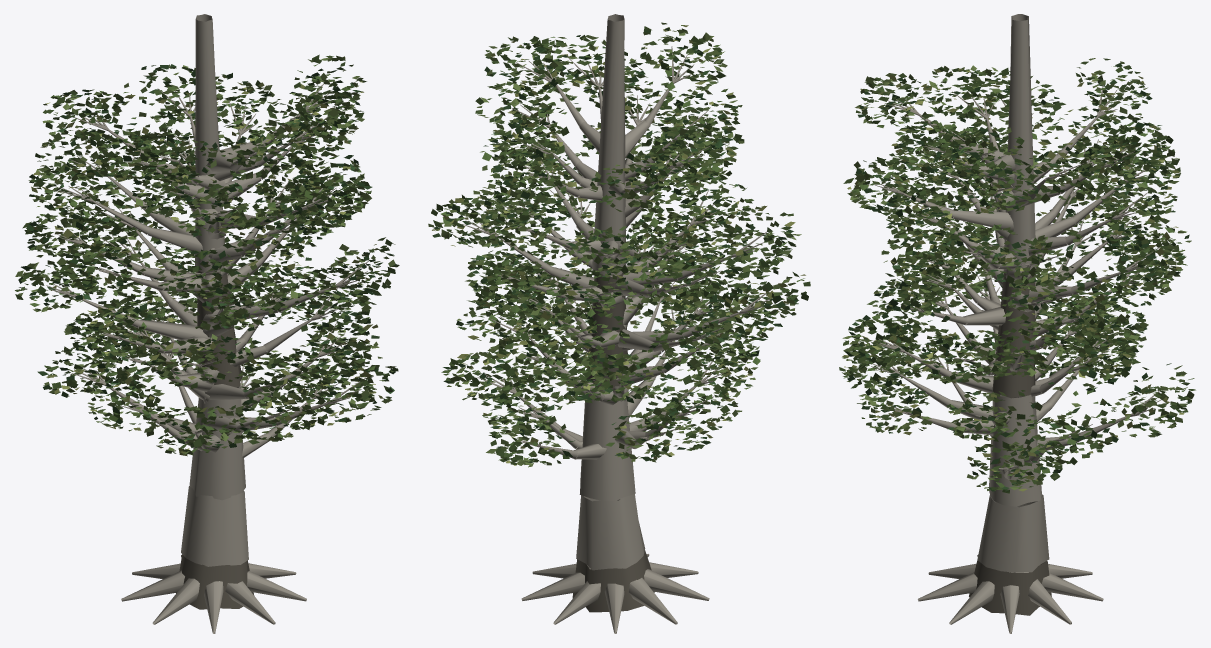
Rendered from SM_VistaBeech_2049.fbx.
3 renders of one model, left to right at view 1: azimuth 30°, elevation 25°; view 2: azimuth 150°, elevation 25°; view 3: azimuth 270°, elevation 25°, orthographic.
Parts seen in each view (by area): view 1: Soulwood_beech_geometry; view 2: Soulwood_beech_geometry; view 3: Soulwood_beech_geometry.
Boxes of the visible parts, x1,y1,x2,y2 form: Soulwood_beech_geometry: (15, 14, 399, 633); Soulwood_beech_geometry: (428, 14, 810, 633); Soulwood_beech_geometry: (839, 14, 1195, 633).
Size of the model in its own units: 671 by 647 by 1157.
